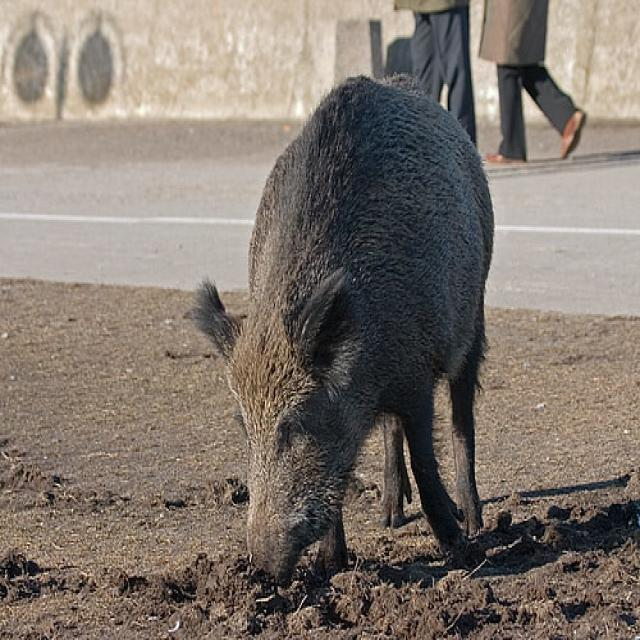boar: (169, 53, 537, 632)
